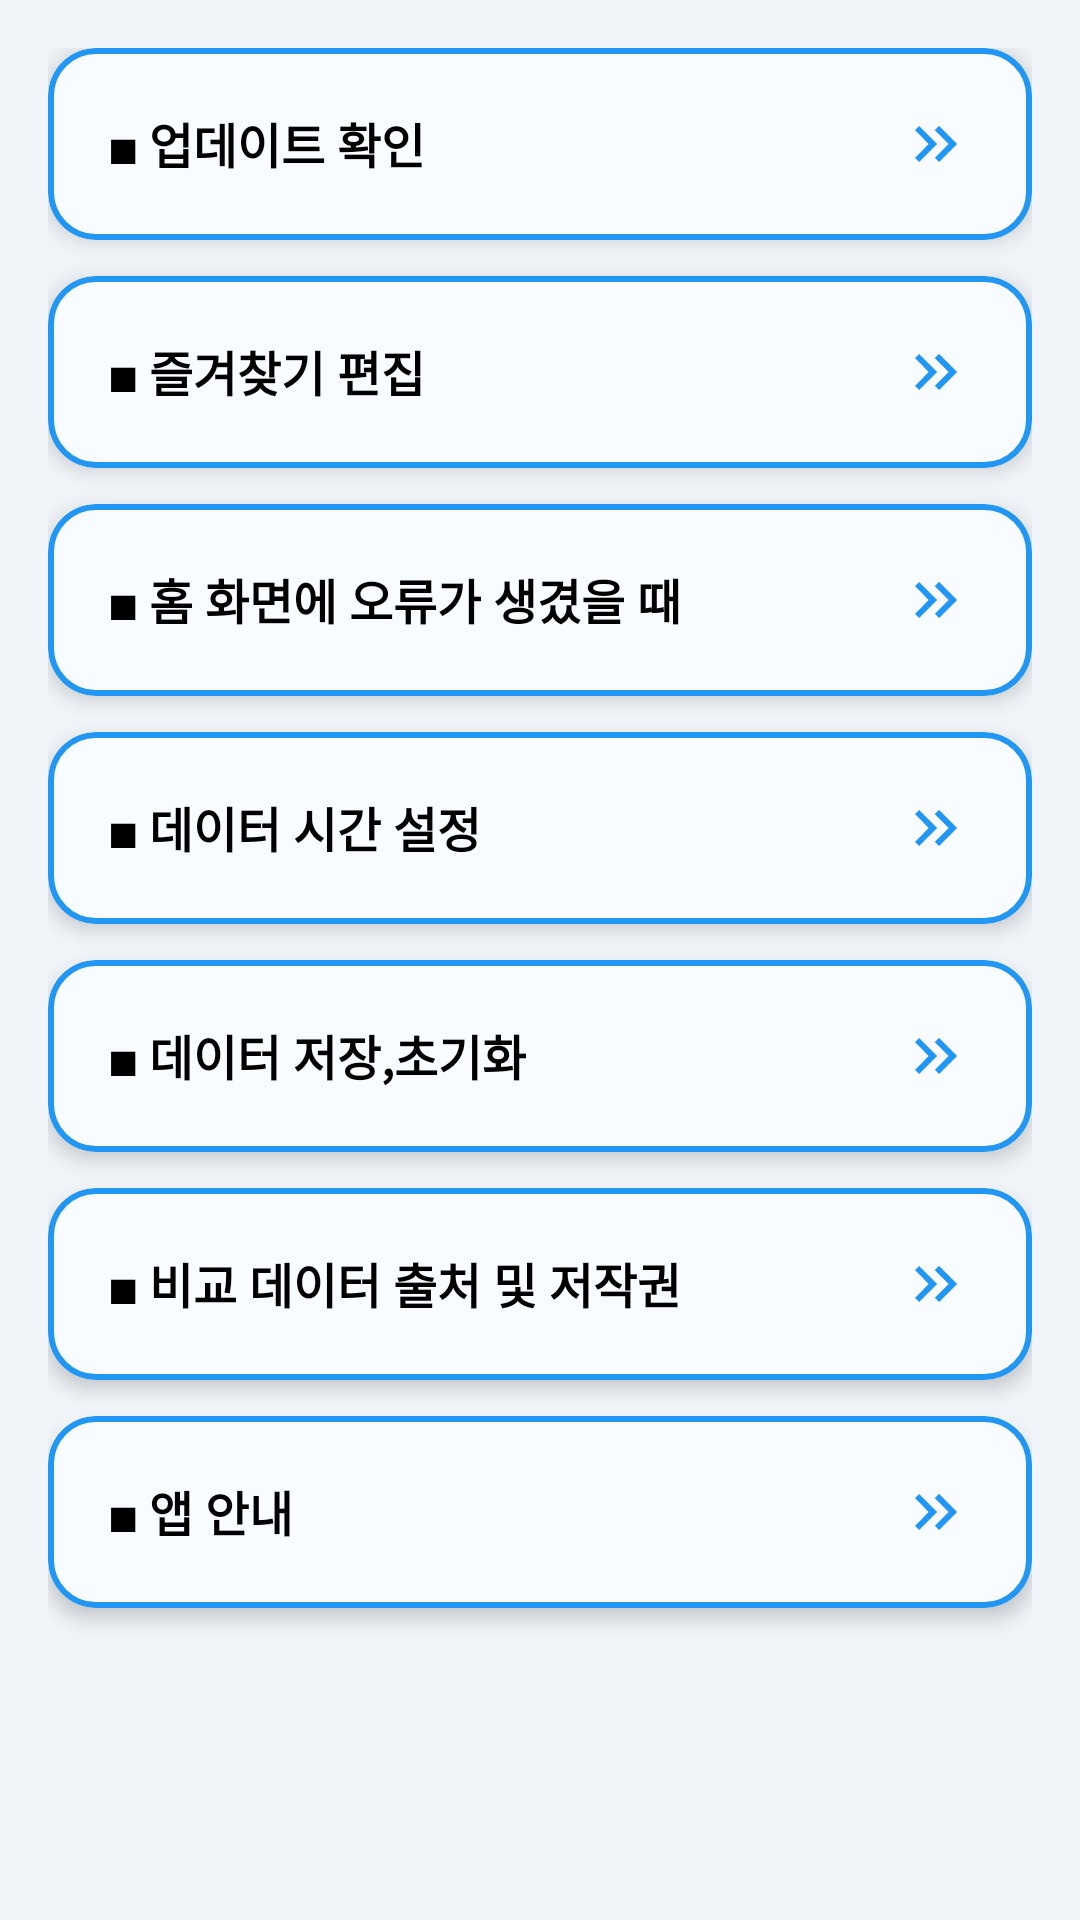

Where to tap for icons on this 1080 x 1920 app screen, as point (x, y):
keyboard double arrow right: point (936, 144), point (936, 372), point (936, 600), point (936, 828), point (936, 1056), point (936, 1284), point (936, 1512)
